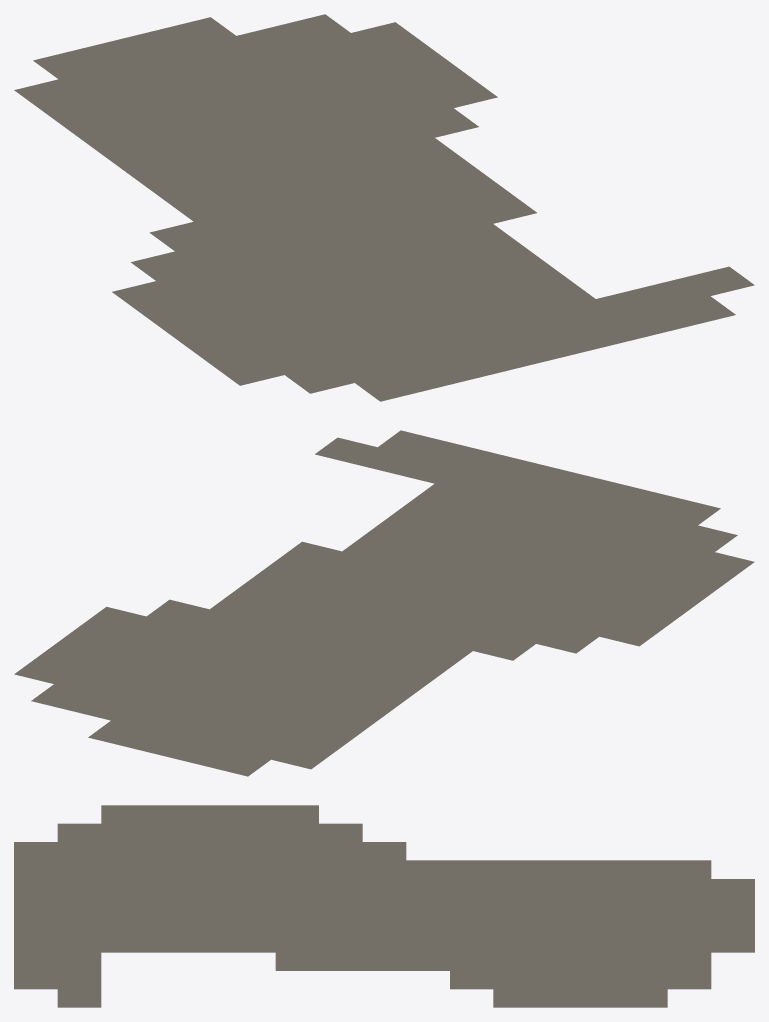
The model's file is Isl-start4-RocksArea.fbx.
3 renders of one model, top to bottom at view 1: azimuth 30°, elevation 25°; view 2: azimuth 150°, elevation 25°; view 3: azimuth 270°, elevation 25°, orthographic. The views are drawn at different scales.
Parts seen in each view (by area): view 1: Isl-start4-RocksArea; view 2: Isl-start4-RocksArea; view 3: Isl-start4-RocksArea.
Part boxes in pixels (left/top/right/bottom): Isl-start4-RocksArea: left=14, top=14, right=754, bottom=401; Isl-start4-RocksArea: left=14, top=430, right=754, bottom=776; Isl-start4-RocksArea: left=14, top=805, right=754, bottom=1007.
Bounding box in the file's own units: 11 × 0 × 17.
